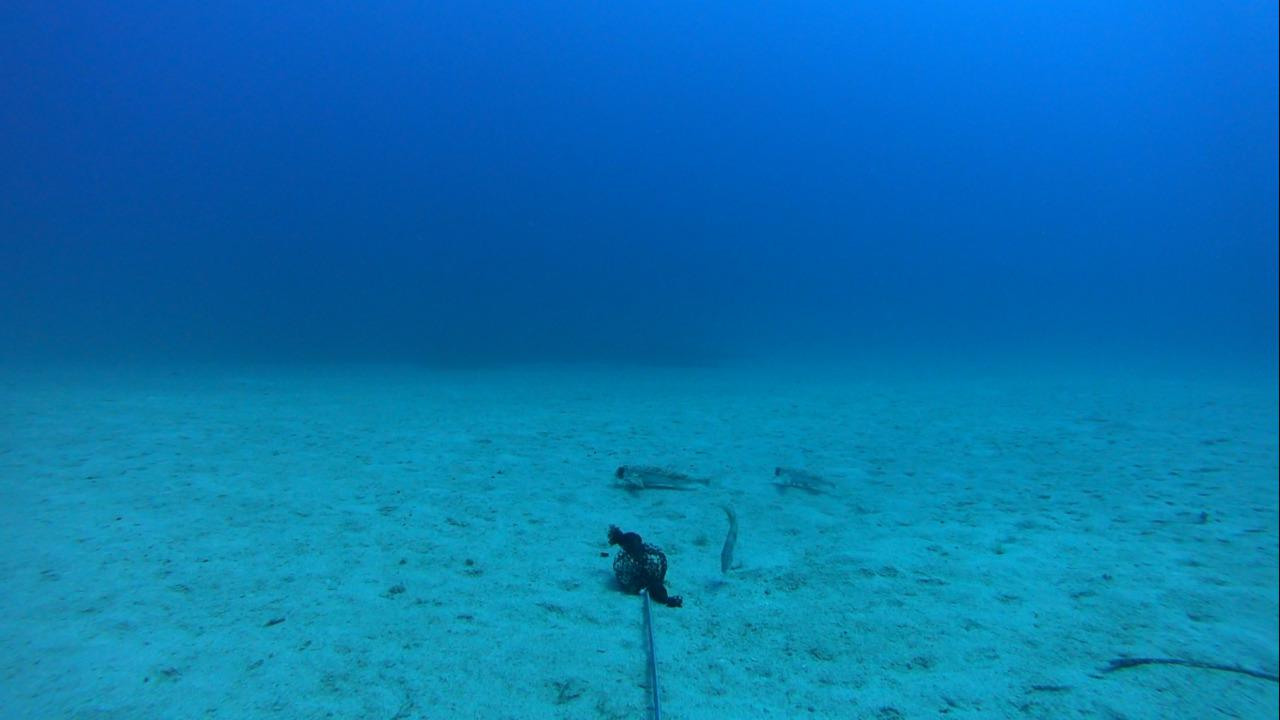dactylopterus: (752, 456, 852, 502), (604, 455, 716, 494)
raor: (706, 499, 752, 570)
